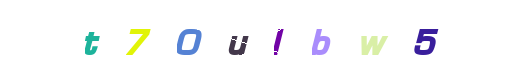0: (168, 0, 248, 80)
5: (347, 0, 427, 80)
7: (98, 0, 178, 80)
B: (261, 0, 341, 80)
L: (224, 0, 304, 80)
T: (51, 0, 131, 80)
U: (197, 0, 277, 80)
W: (309, 0, 389, 80)
